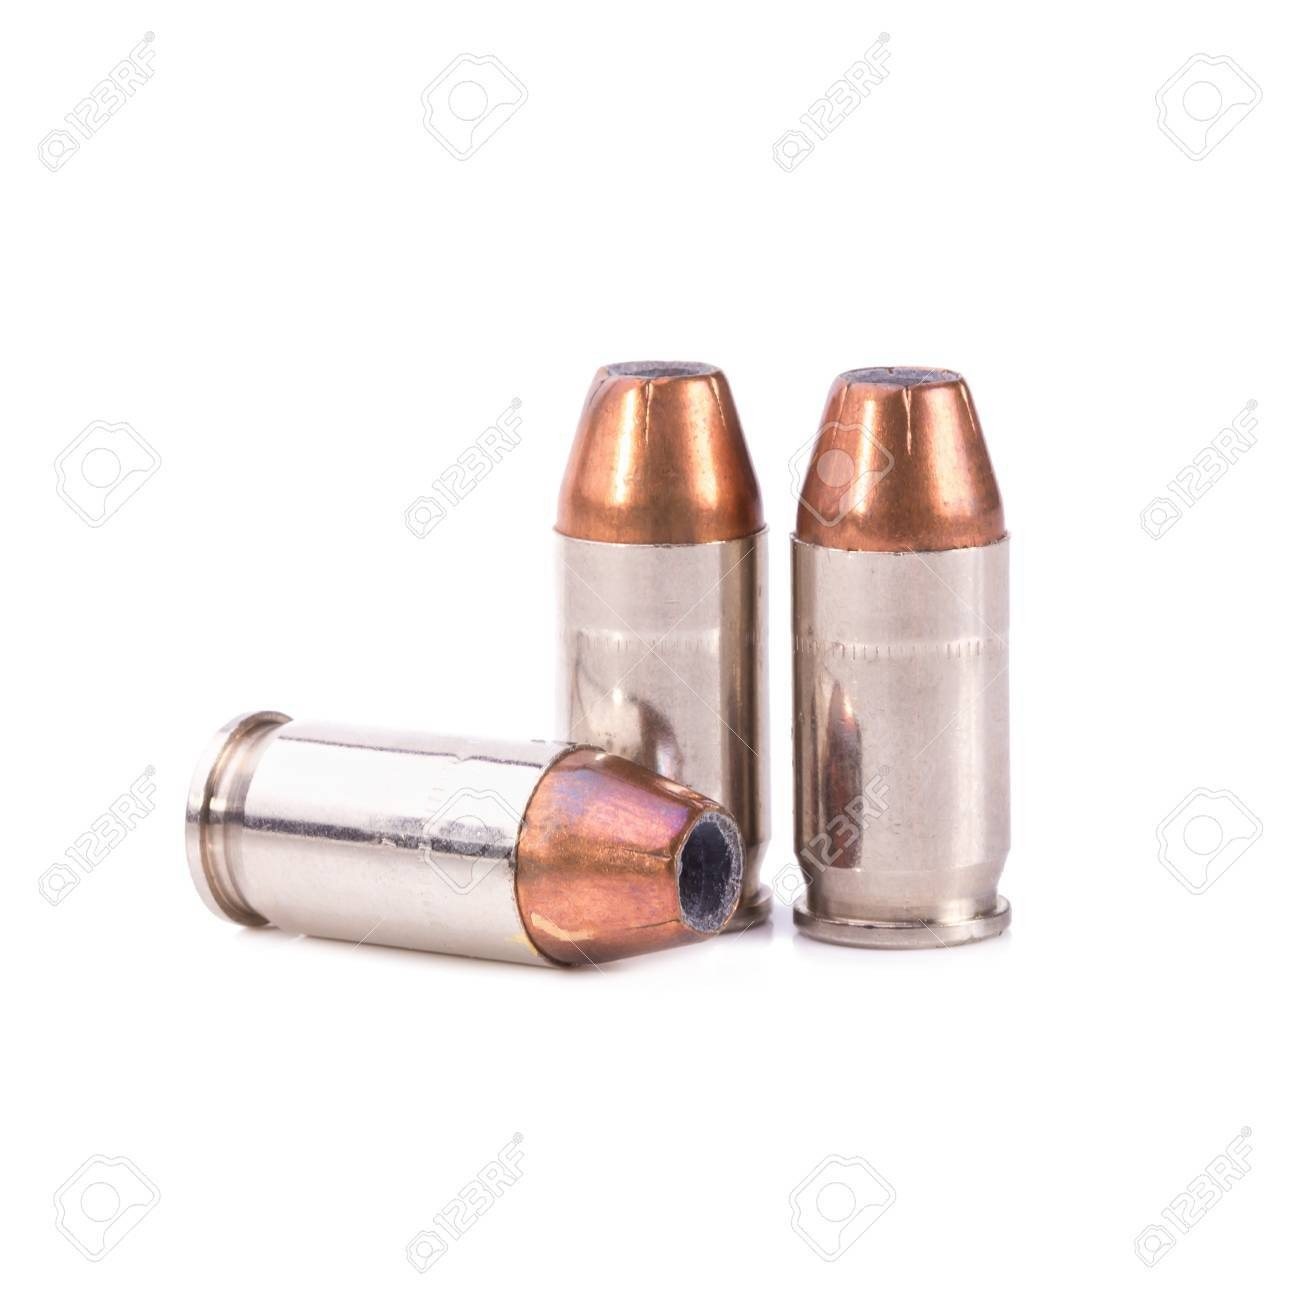bullet: (190, 685, 745, 1020), (781, 338, 1029, 968)
